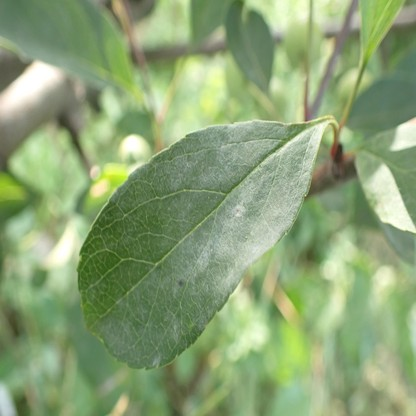powdery_mildew: (77, 120, 340, 370)
